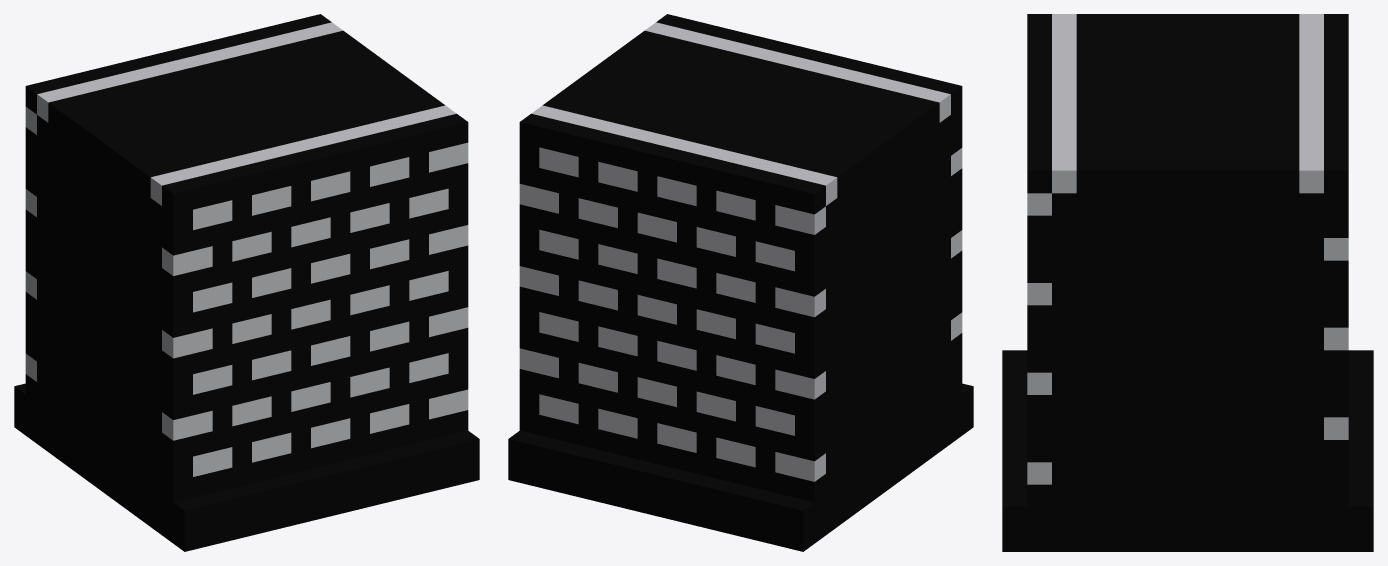
File: dungeon_d_a_inner_wall_segment_a.obj
3 renders of one model, left to right at view 1: azimuth 30°, elevation 25°; view 2: azimuth 150°, elevation 25°; view 3: azimuth 270°, elevation 25°, orthographic. The views are drawn at different scales.
Size of the model in its own units: 1.5 by 1.7 by 1.5.
Materials: 1 (1 with a texture image).
